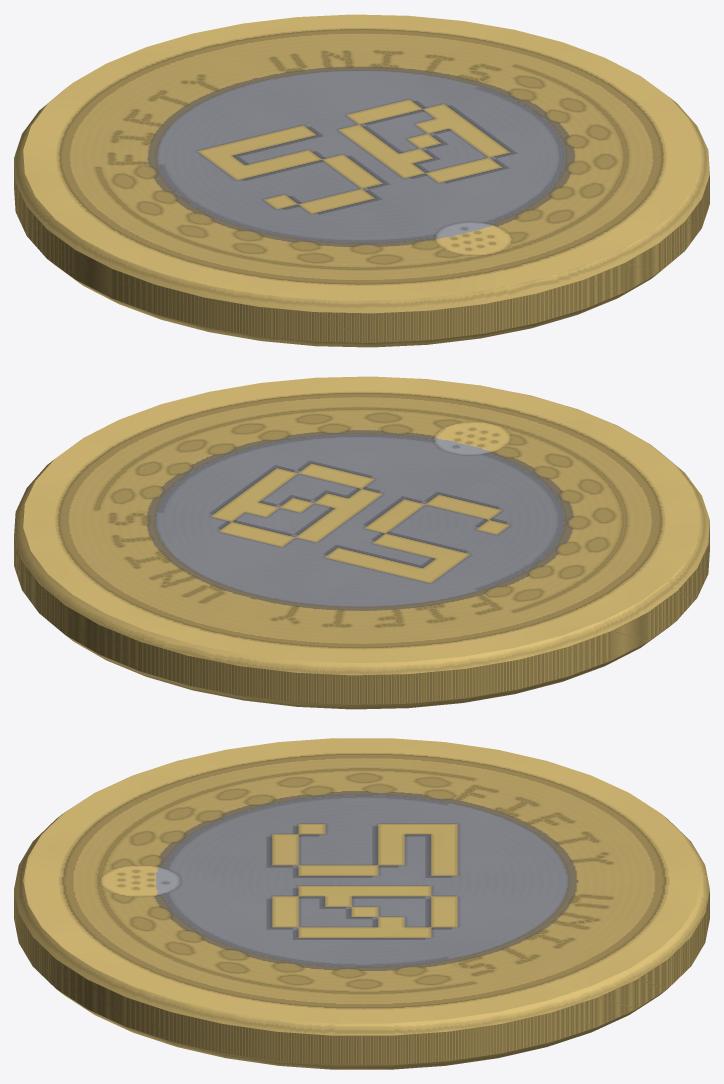
File: cash_coin_50.glb
3 views of the same model, one above another, from view 1: azimuth 30°, elevation 25°; view 2: azimuth 150°, elevation 25°; view 3: azimuth 270°, elevation 25° (orthographic).
Parts seen in each view (by area): view 1: Coin_Body; view 2: Coin_Body; view 3: Coin_Body.
Boxes of the visible parts, x1,y1,x2,y2 form: Coin_Body: (14,14,709,347); Coin_Body: (14,376,709,709); Coin_Body: (14,738,709,1069).
Bounding box in the file's own units: 0.0299 × 0.0022 × 0.03.
Materials: 1 (1 with a texture image).
